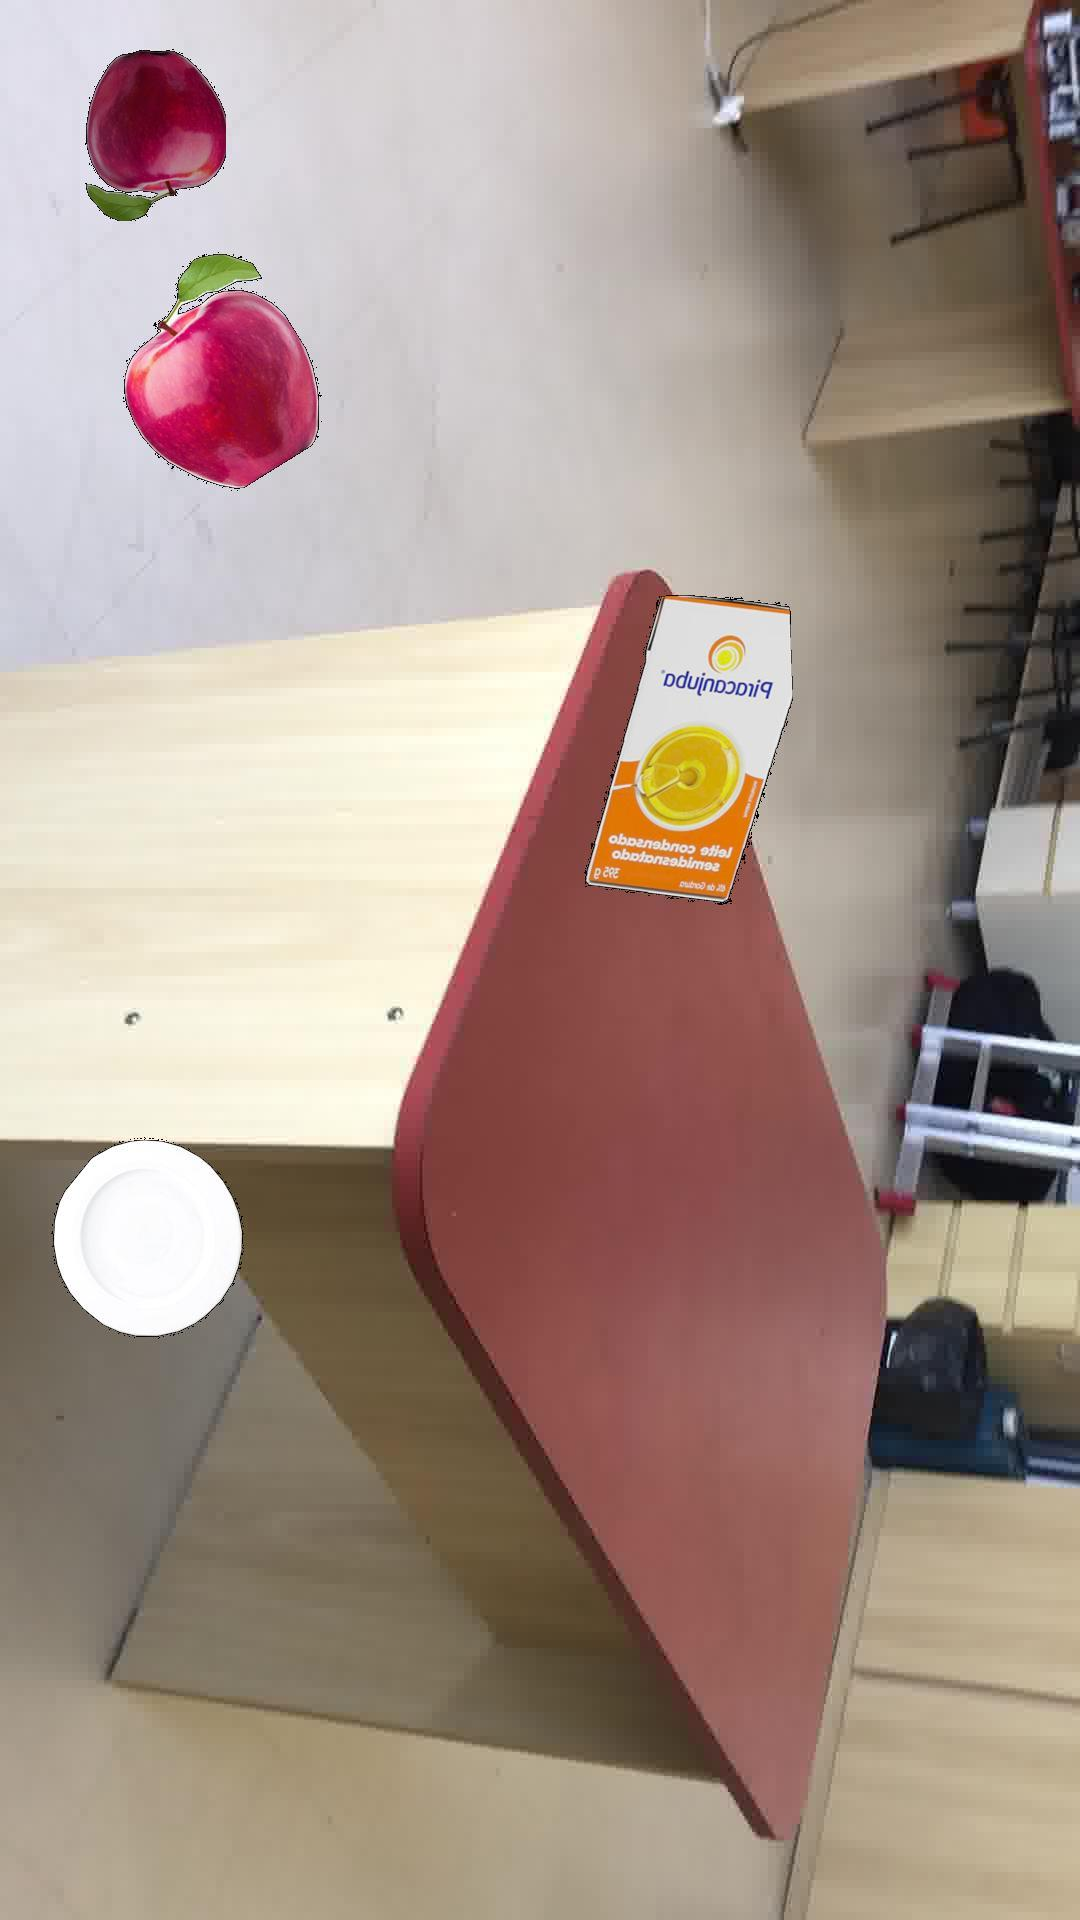apple: (123, 252, 320, 488), (83, 49, 224, 219)
plate: (50, 1138, 243, 1336)
